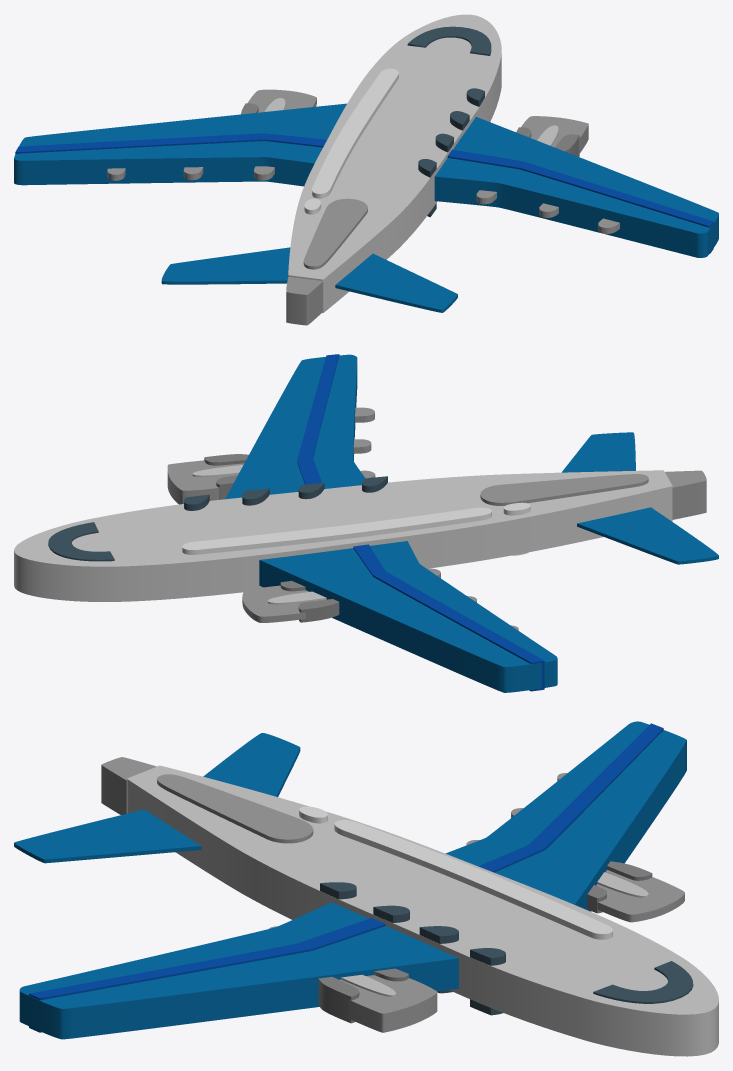
The model's file is emoji_u2708.glb.
3 views of the same model, one above another, from view 1: azimuth 30°, elevation 25°; view 2: azimuth 150°, elevation 25°; view 3: azimuth 270°, elevation 25° (orthographic). The views are drawn at different scales.
Visible parts, largest first — view 1: emoji_u2708; view 2: emoji_u2708; view 3: emoji_u2708.
Boxes of the visible parts, x1=… form: emoji_u2708: x1=14, y1=14, x2=718, y2=325; emoji_u2708: x1=14, y1=354, x2=718, y2=692; emoji_u2708: x1=14, y1=721, x2=718, y2=1056.
Bounding box in the file's own units: 0.0339 × 0.003 × 0.0336.
